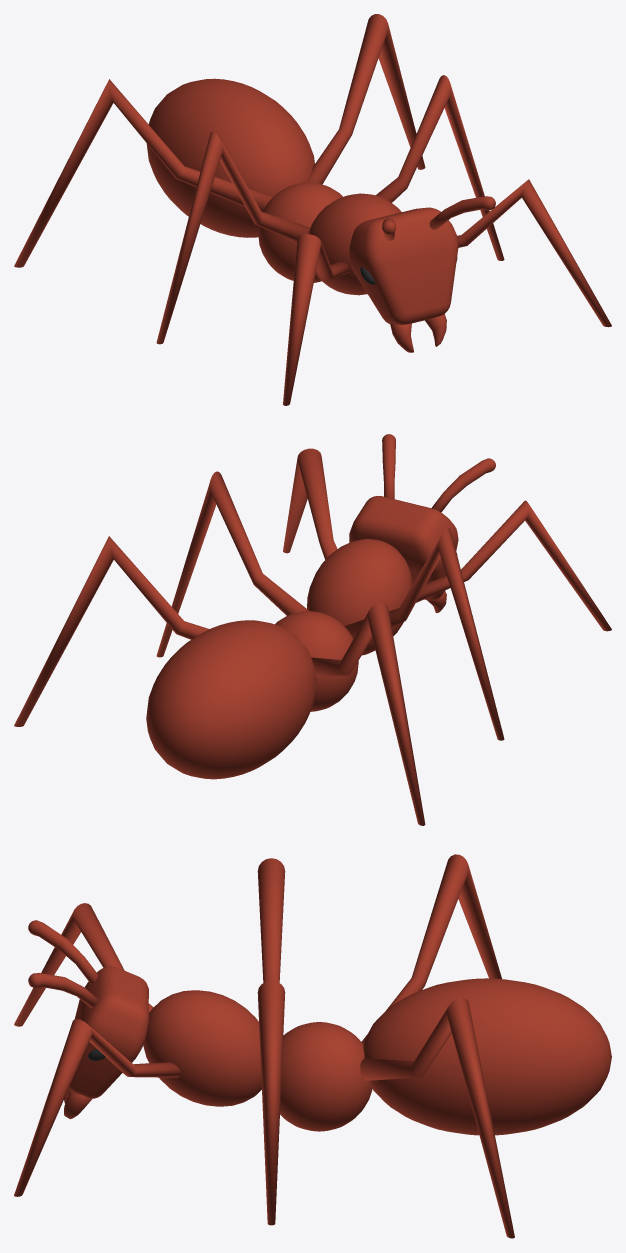
File: ant.fbx
3 views of the same model, one above another, from view 1: azimuth 30°, elevation 25°; view 2: azimuth 150°, elevation 25°; view 3: azimuth 270°, elevation 25° (orthographic). The views are drawn at different scales.
Visible parts, largest first — view 1: Ant; view 2: Ant; view 3: Ant.
Boxes of the visible parts, <box> form: Ant: <box>14,14,611,405</box>; Ant: <box>14,434,611,825</box>; Ant: <box>14,854,611,1238</box>.
Size of the model in its own units: 654 by 760 by 300.
